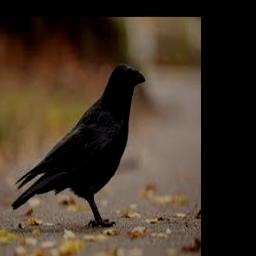Crow: (12, 64, 146, 229)
